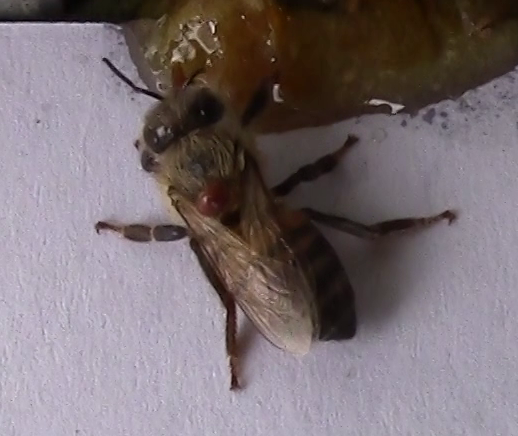Varroa destructor: (193, 175, 235, 218)
